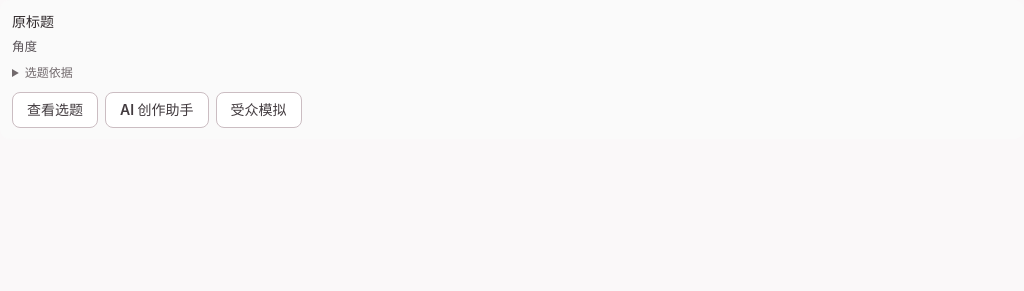
Test: shows material requests separately on a generated topic card
Expected: the text "请确认是否有亲身申请经历？" is not shown
Click the heading "选题依据" at coordinates (49, 73), box [25, 65, 73, 80]
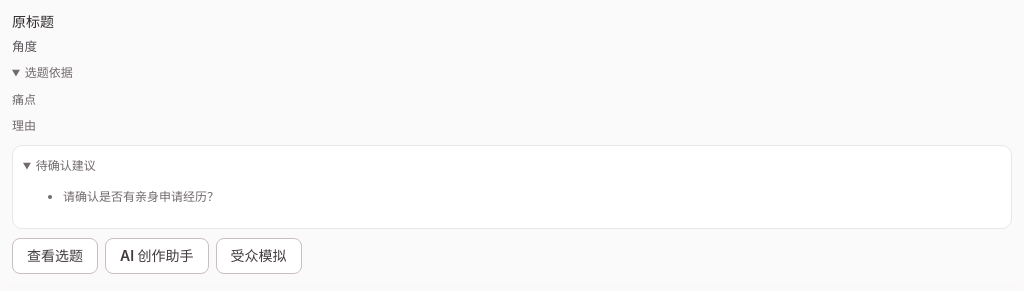
Expected: the heading "原标题" is shown, [12, 13, 54, 30]
Expected: the list item "请确认是否有亲身申请经历？" is shown, [63, 189, 219, 204]
